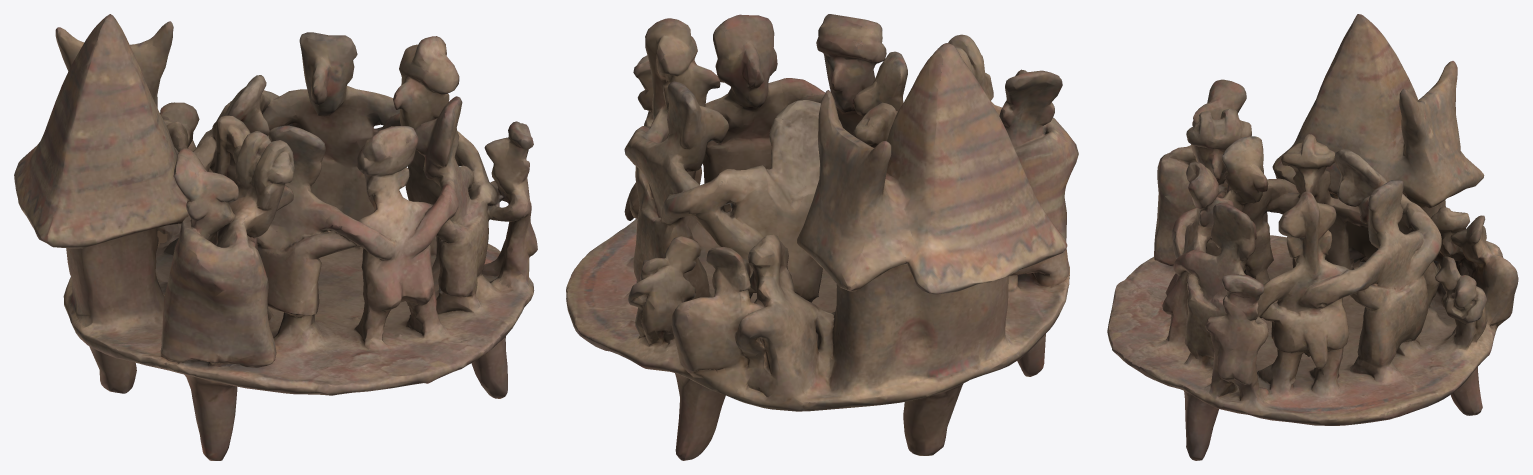
Rendered from preview.glb.
3 renders of one model, left to right at view 1: azimuth 30°, elevation 25°; view 2: azimuth 150°, elevation 25°; view 3: azimuth 270°, elevation 25°, orthographic. The views are drawn at different scales.
Parts seen in each view (by area): view 1: ADVIMG_1995_63_4_VillageScene_10M_n3d; view 2: ADVIMG_1995_63_4_VillageScene_10M_n3d; view 3: ADVIMG_1995_63_4_VillageScene_10M_n3d.
Boxes of the visible parts, x1,y1,x2,y2 form: ADVIMG_1995_63_4_VillageScene_10M_n3d: (14,14,537,460); ADVIMG_1995_63_4_VillageScene_10M_n3d: (566,14,1078,460); ADVIMG_1995_63_4_VillageScene_10M_n3d: (1107,14,1518,460).
Bounding box in the file's own units: 0.1944 × 0.1584 × 0.1809.
Materials: 1 (1 with a texture image).
